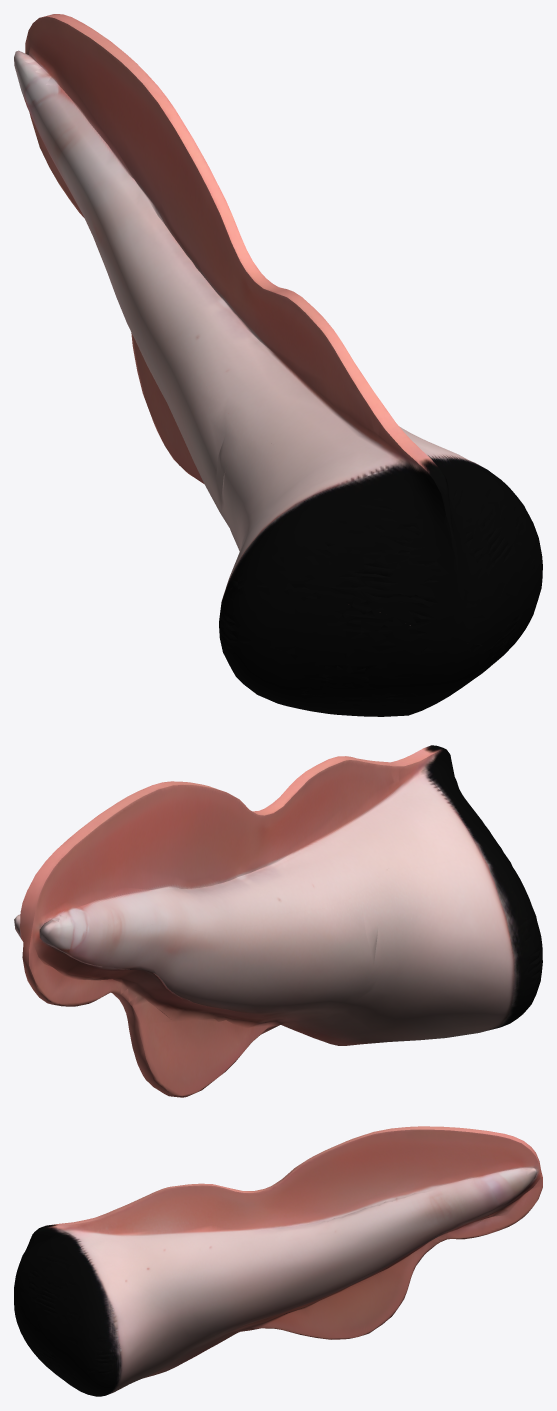
Rendered from cola_ajolote.obj.
3 renders of one model, top to bottom at view 1: azimuth 30°, elevation 25°; view 2: azimuth 150°, elevation 25°; view 3: azimuth 270°, elevation 25°, orthographic. The views are drawn at different scales.
Visible parts, largest first — view 1: cola_ajolote; view 2: cola_ajolote; view 3: cola_ajolote.
Boxes of the visible parts, bbox=[...] form: cola_ajolote: bbox=[14, 14, 542, 716]; cola_ajolote: bbox=[14, 745, 542, 1097]; cola_ajolote: bbox=[14, 1126, 542, 1396].
Size of the model in its own units: 0.4127 by 0.5666 by 1.03.
Materials: 1 (1 with a texture image).
